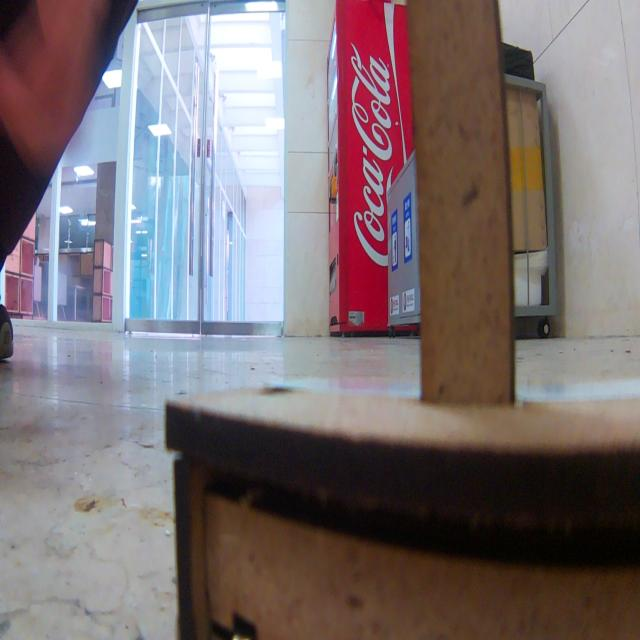target: (162, 2, 640, 639)
